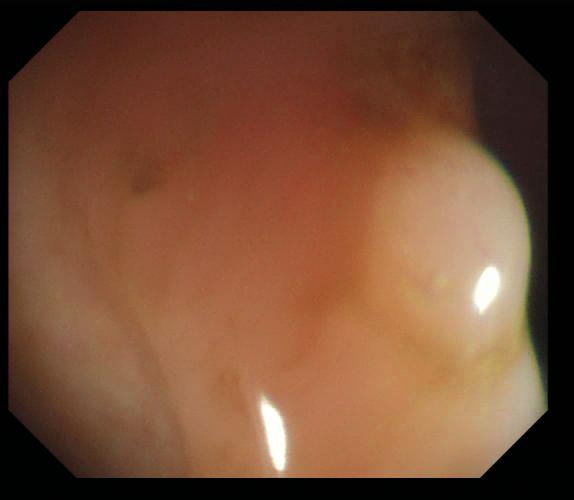polyp: (360, 127, 529, 374)
